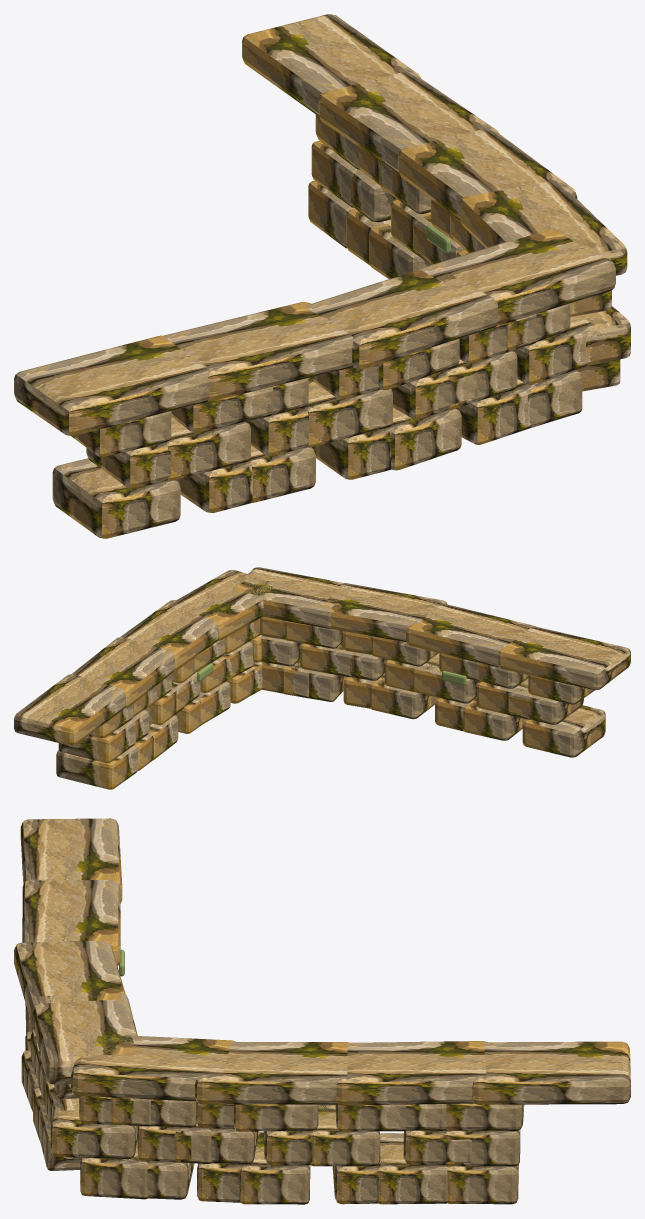
Rendered from drystone_corner.glb.
The picture shows the model from 3 angles, top to bottom: view 1: azimuth 30°, elevation 25°; view 2: azimuth 150°, elevation 25°; view 3: azimuth 270°, elevation 25°; orthographic projection. The views are drawn at different scales.
Visible parts, largest first — view 1: Painted Cotswold drystone; view 2: Painted Cotswold drystone, Warm wall moss; view 3: Painted Cotswold drystone.
Part boxes in pixels (x1,y1,x2,y2): Painted Cotswold drystone: (14,14,630,538); Painted Cotswold drystone: (14,567,630,789); Warm wall moss: (197,663,466,685); Painted Cotswold drystone: (14,818,630,1204).
Size of the model in its own units: 5.26 by 1.18 by 5.16.
2 materials, 1 textured.
